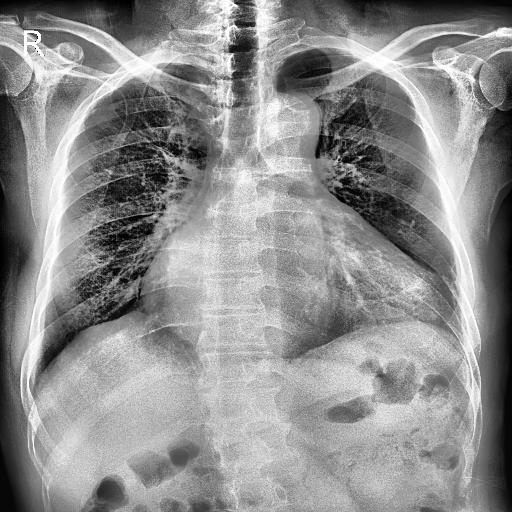0- Aortic enlargement: (256, 85, 320, 159), (267, 92, 320, 144)
3- Cardiomegaly: (142, 244, 442, 332), (138, 245, 446, 327), (134, 261, 450, 337)
